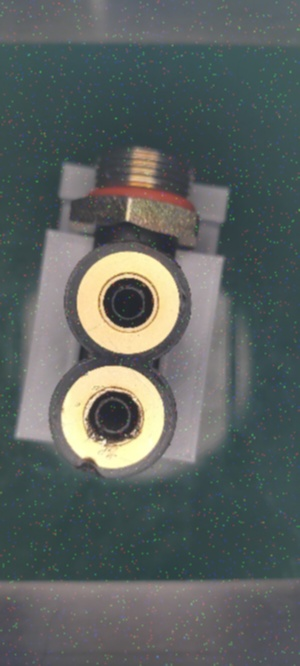bump: (73, 447, 113, 492)
craze: (133, 226, 146, 245)
